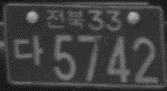2: (132, 35, 160, 86)
3: (86, 8, 104, 31), (105, 8, 121, 32)
4: (104, 34, 130, 83)
5: (52, 33, 77, 82)
7: (76, 33, 101, 83)
다: (12, 35, 44, 66)
전북_O: (44, 7, 86, 31)
